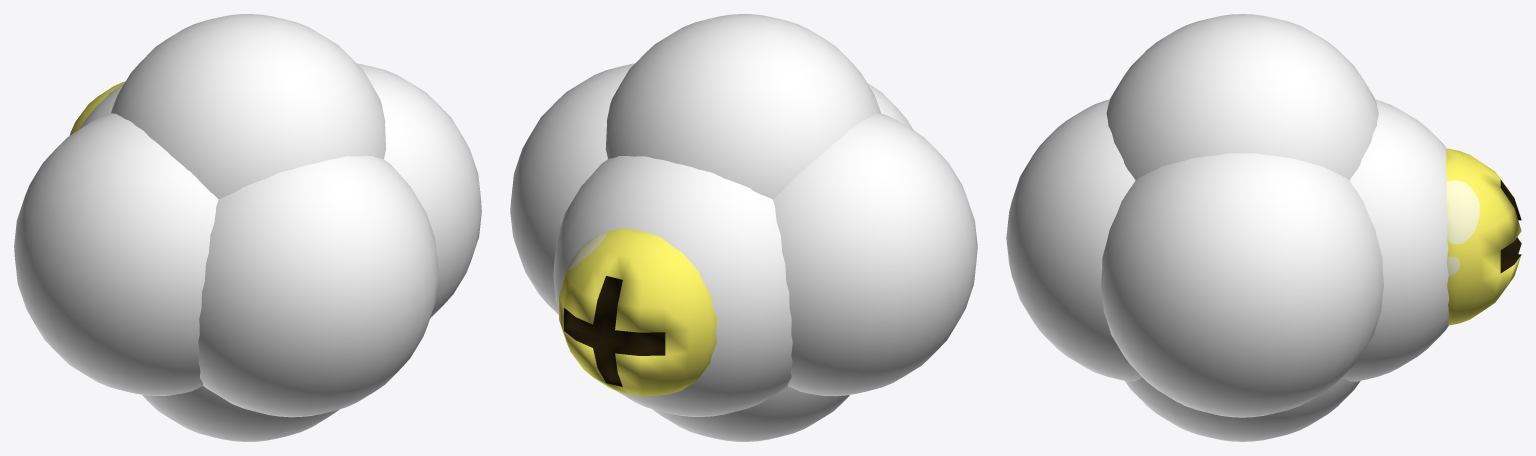
Rendered from steamling nube.fbx.
3 renders of one model, left to right at view 1: azimuth 30°, elevation 25°; view 2: azimuth 150°, elevation 25°; view 3: azimuth 270°, elevation 25°, orthographic.
Visible parts, largest first — view 1: eye cloud.002; view 2: eye cloud.002; view 3: eye cloud.002.
Part boxes in pixels (x1=…): eye cloud.002: x1=14, y1=14, x2=481, y2=441; eye cloud.002: x1=510, y1=14, x2=977, y2=441; eye cloud.002: x1=1006, y1=14, x2=1521, y2=441.
Size of the model in its own units: 768 by 685 by 798.
